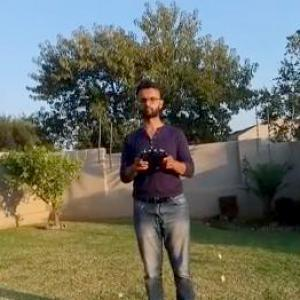follow: (108, 73, 198, 299)
